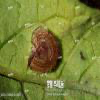Potato leaf early blight: (0, 0, 99, 96)
